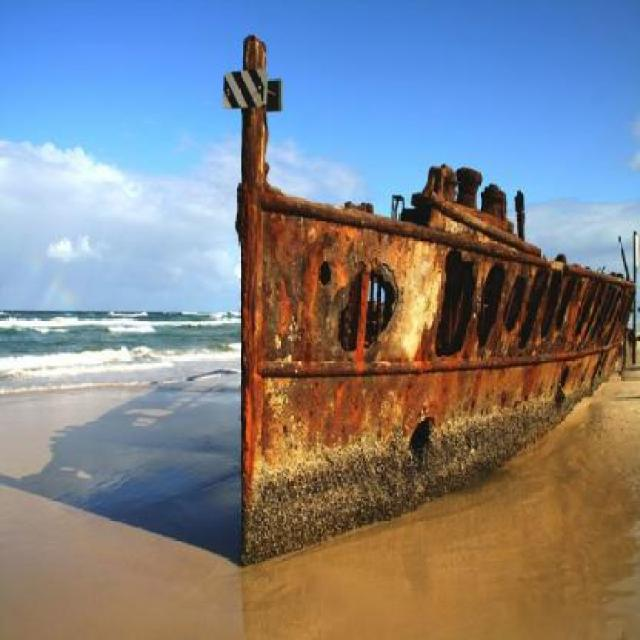corrosion: (226, 58, 640, 565)
